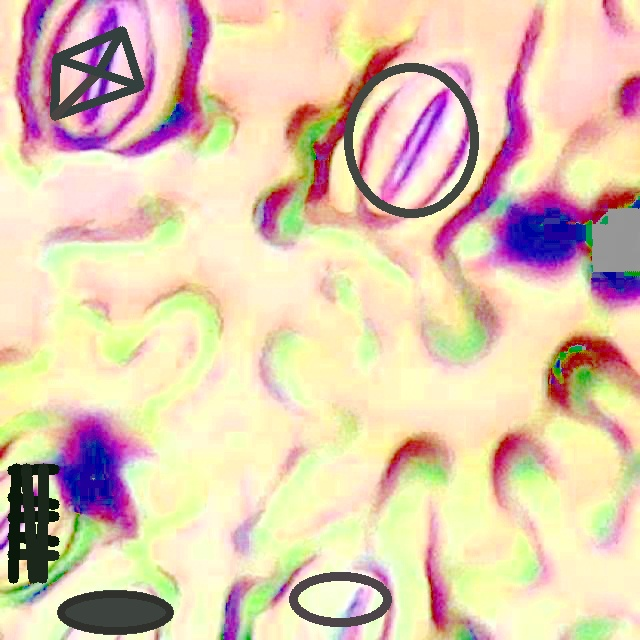close: (57, 590, 173, 634)
open: (342, 63, 480, 217), (53, 26, 143, 119), (8, 464, 59, 582), (287, 571, 392, 626)
